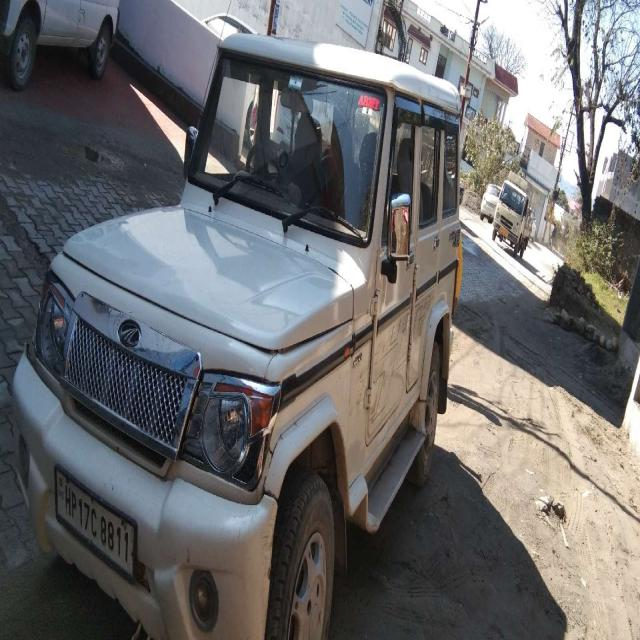light_vehicle: (14, 68, 455, 630)
